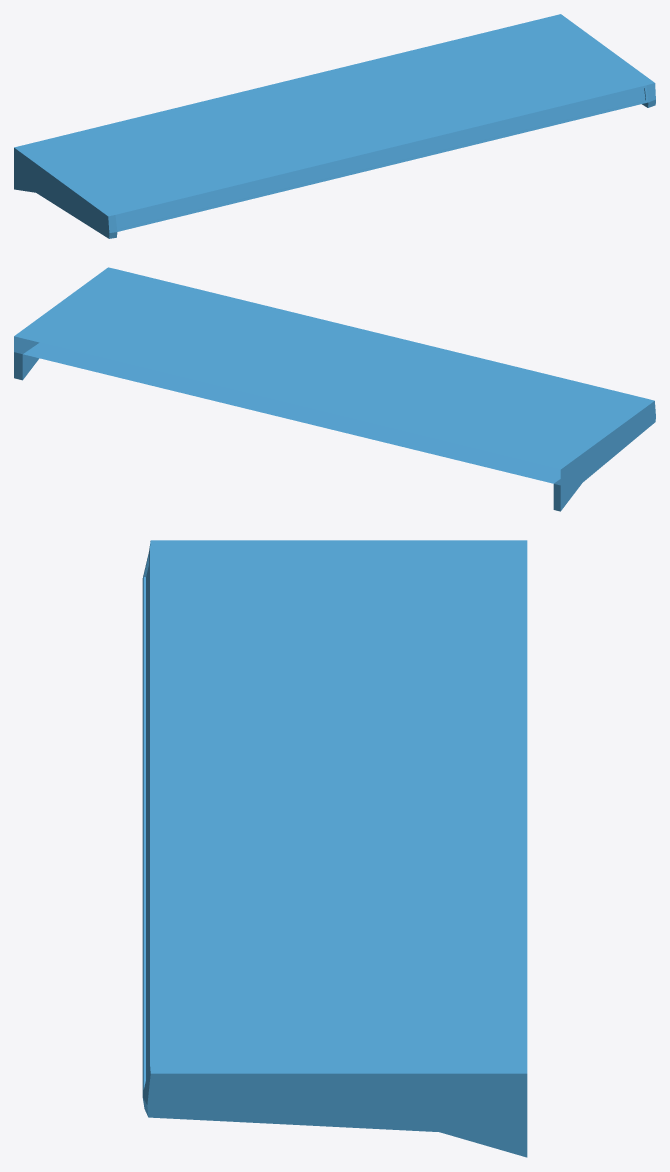
Rendered from Planche_Etagere01.fbx.
3 views of the same model, one above another, from view 1: azimuth 30°, elevation 25°; view 2: azimuth 150°, elevation 25°; view 3: azimuth 270°, elevation 25° (orthographic). The views are drawn at different scales.
Parts seen in each view (by area): view 1: Etagere; view 2: Etagere; view 3: Etagere.
Boxes of the visible parts, x1=… form: Etagere: x1=14, y1=14, x2=655, y2=238; Etagere: x1=14, y1=267, x2=655, y2=511; Etagere: x1=142, y1=540, x2=527, y2=1157.
Size of the model in its own units: 200 by 14.67 by 60.96.
